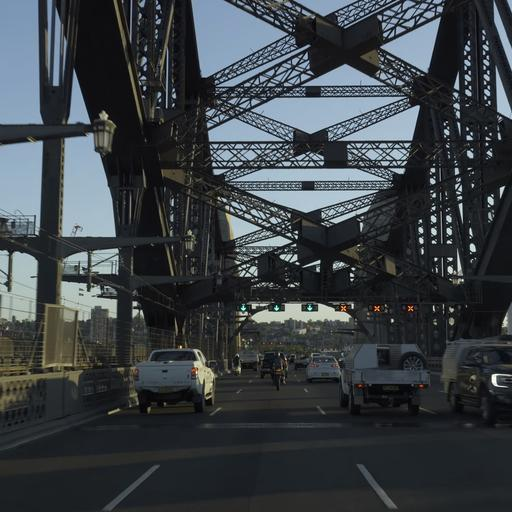Street light: (0, 107, 118, 374), (0, 108, 117, 158), (89, 108, 117, 158)
